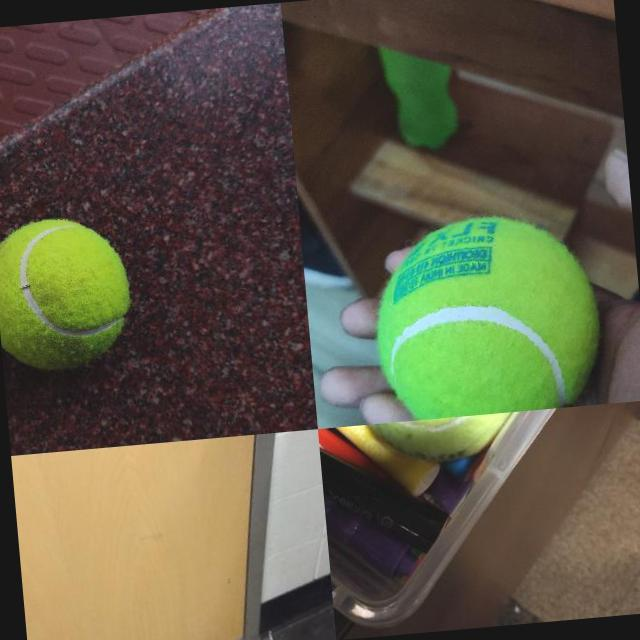Tennis Ball: (367, 209, 605, 422), (0, 211, 136, 375), (360, 411, 526, 468)
